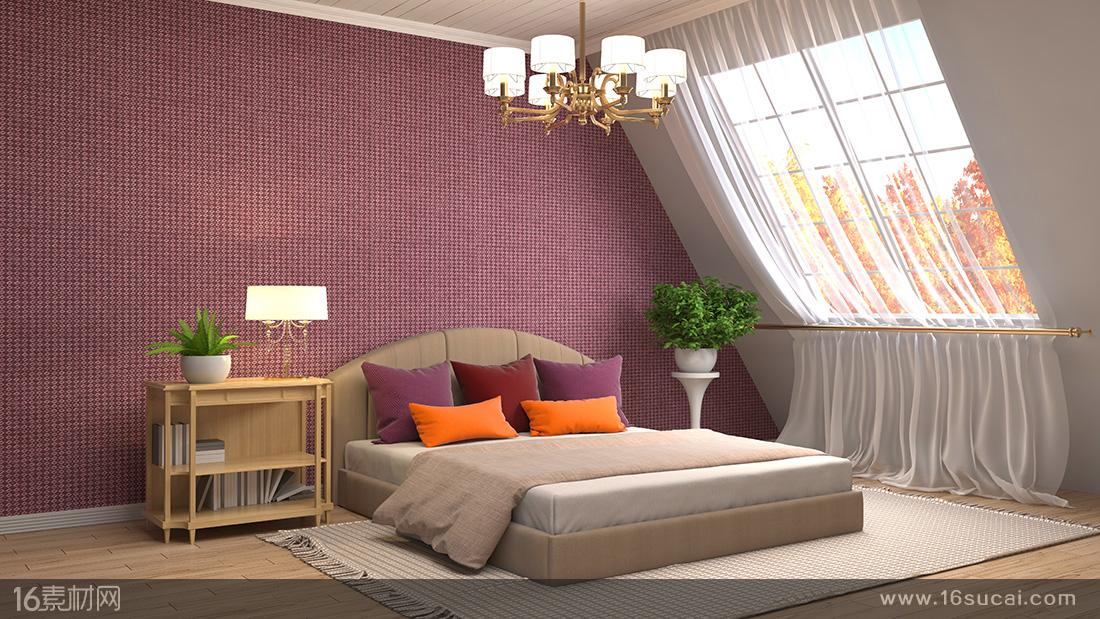床: (330, 411, 868, 585)
枕头: (356, 355, 630, 444)
灯: (471, 13, 693, 132), (236, 284, 332, 386)
